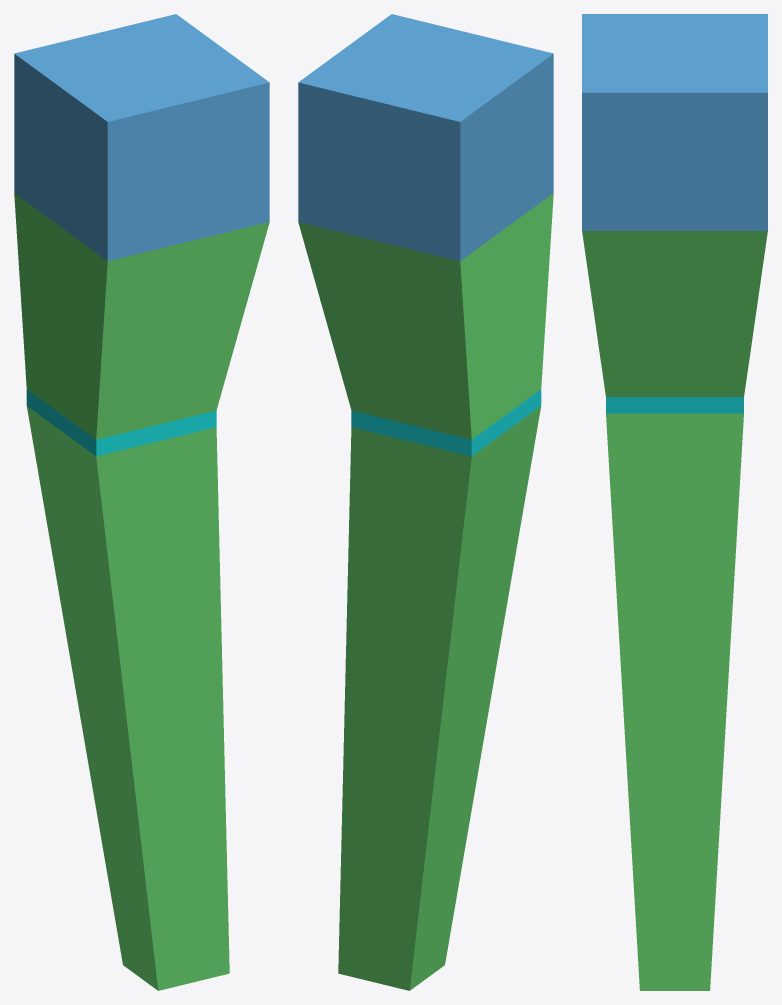
Rendered from 2shelf.fbx.
The picture shows the model from 3 angles, left to right: view 1: azimuth 30°, elevation 25°; view 2: azimuth 150°, elevation 25°; view 3: azimuth 270°, elevation 25°; orthographic projection.
Parts seen in each view (by area): view 1: Cube, Cube.001, Cube.002; view 2: Cube, Cube.001, Cube.002; view 3: Cube, Cube.001, Cube.002.
Boxes of the visible parts, x1,y1,x2,y2 form: Cube: (14, 193, 269, 990); Cube.001: (14, 14, 269, 261); Cube.002: (26, 389, 216, 456); Cube: (298, 193, 553, 990); Cube.001: (298, 14, 553, 261); Cube.002: (351, 389, 541, 456); Cube: (582, 231, 767, 990); Cube.001: (582, 14, 767, 230); Cube.002: (606, 397, 743, 413).
Size of the model in its own units: 92.68 by 497 by 92.68.
